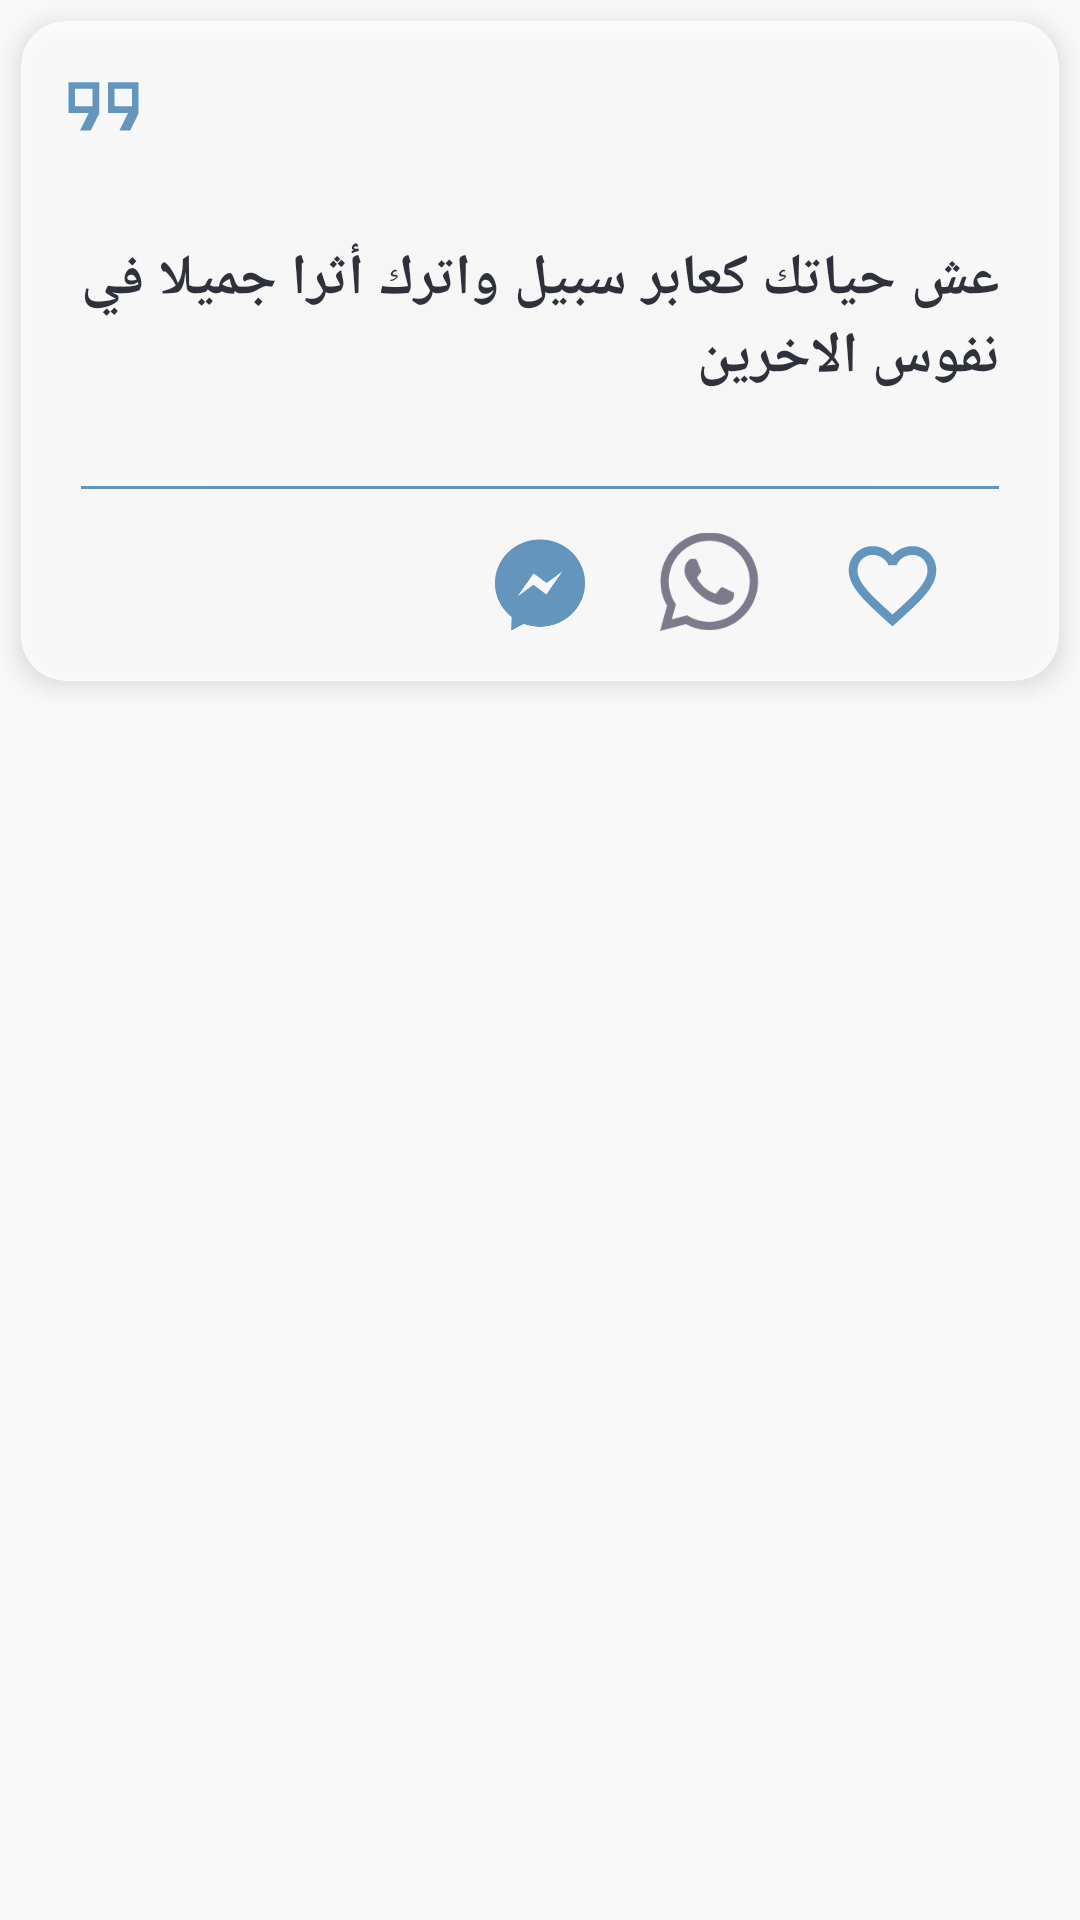

Screen size 1080*1920. Icon name, then its box in pixels as (x1=x1, y1=y1, x2=x2, y2=y2):
border fav: (x1=848, y1=546, x2=937, y2=626)
quote: (x1=68, y1=82, x2=139, y2=131)
